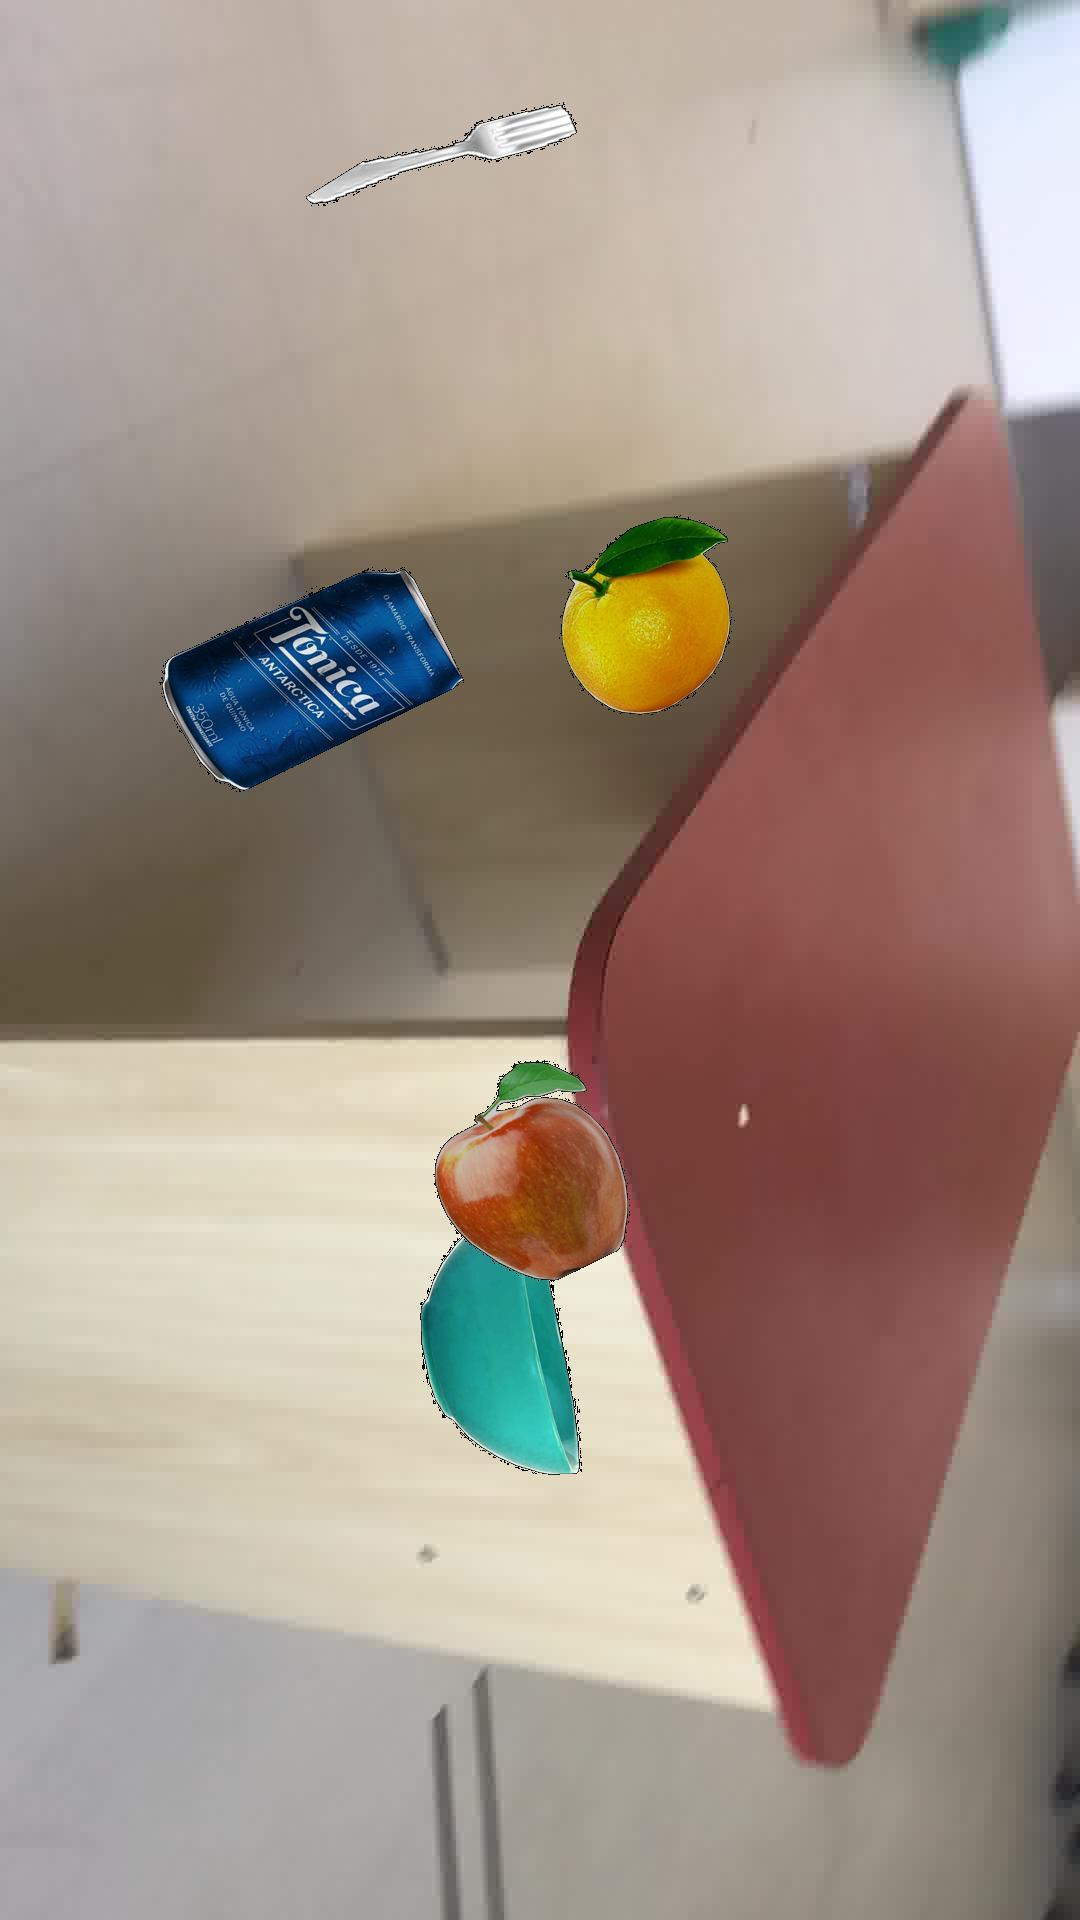apple: (431, 1059, 625, 1279)
bowl: (418, 1236, 580, 1473)
fork: (305, 103, 575, 203)
orange: (559, 514, 729, 713)
tonic: (157, 567, 463, 790)
